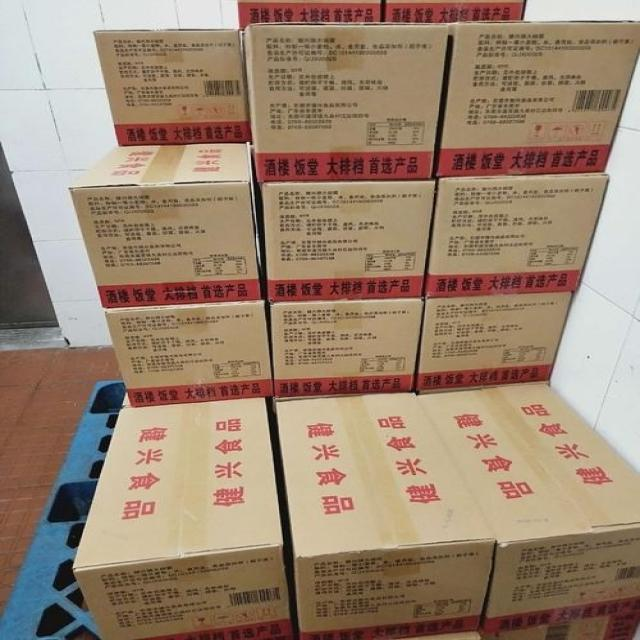Carton: (270, 293, 639, 638), (73, 304, 289, 638), (428, 24, 637, 292), (244, 24, 442, 179), (72, 181, 260, 305), (260, 182, 426, 299), (90, 26, 237, 146)
